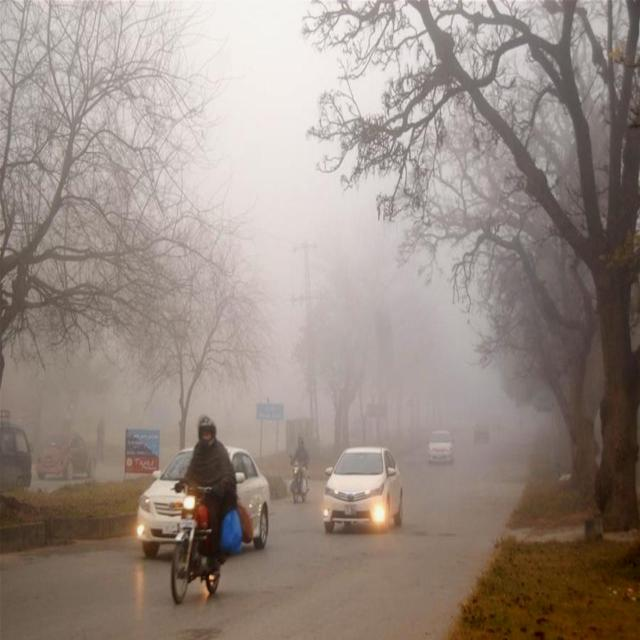Car: (135, 444, 271, 560), (321, 443, 406, 532), (37, 426, 96, 486), (425, 428, 455, 472)
Cycle: (172, 417, 236, 608), (290, 433, 312, 504)
